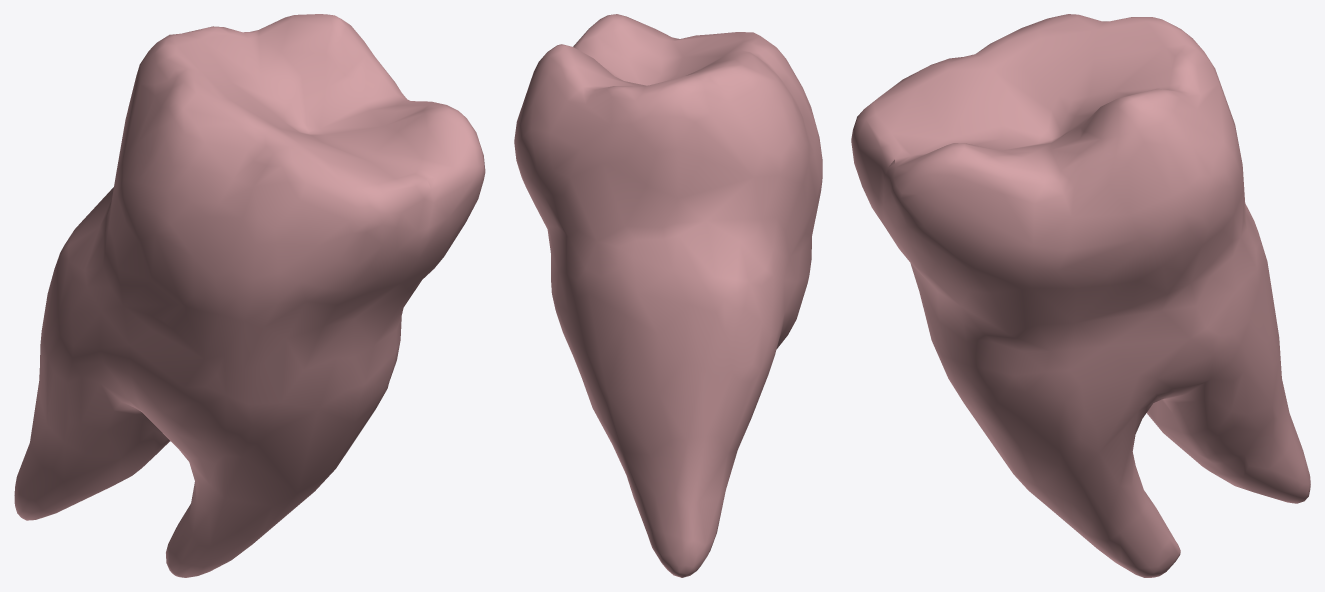
The model's file is fma55705_fj1268.glb.
3 views of the same model, side by side, from view 1: azimuth 30°, elevation 25°; view 2: azimuth 150°, elevation 25°; view 3: azimuth 270°, elevation 25° (orthographic). The views are drawn at different scales.
Visible parts, largest first — view 1: FMA55705_FJ1268; view 2: FMA55705_FJ1268; view 3: FMA55705_FJ1268.
Part boxes in pixels (left/top/right/bottom): FMA55705_FJ1268: left=14, top=14, right=485, bottom=577; FMA55705_FJ1268: left=514, top=14, right=822, bottom=577; FMA55705_FJ1268: left=851, top=14, right=1310, bottom=577.
Bounding box in the file's own units: 0.0123 × 0.0197 × 0.0151.
